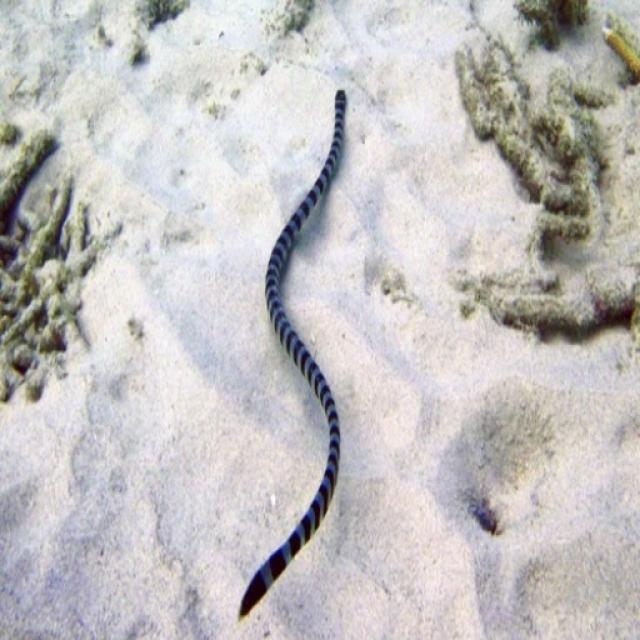snake: (230, 82, 390, 632)
